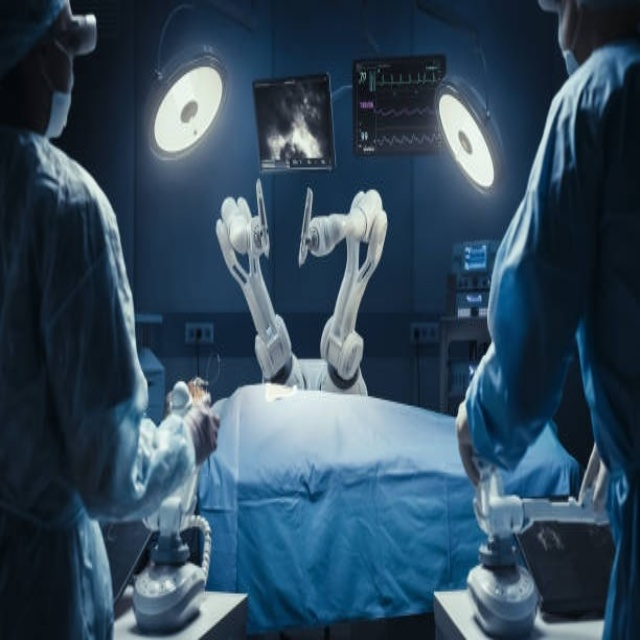Gafas: (48, 6, 98, 58)
Guantes: (185, 398, 225, 469), (456, 397, 483, 490), (579, 440, 609, 514)
Mascara: (44, 56, 73, 136), (559, 9, 585, 80)
